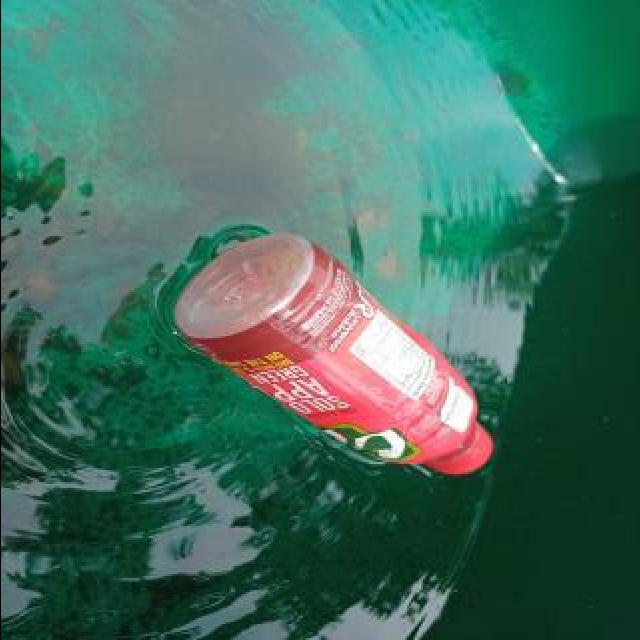Bottle: (168, 232, 496, 480)
